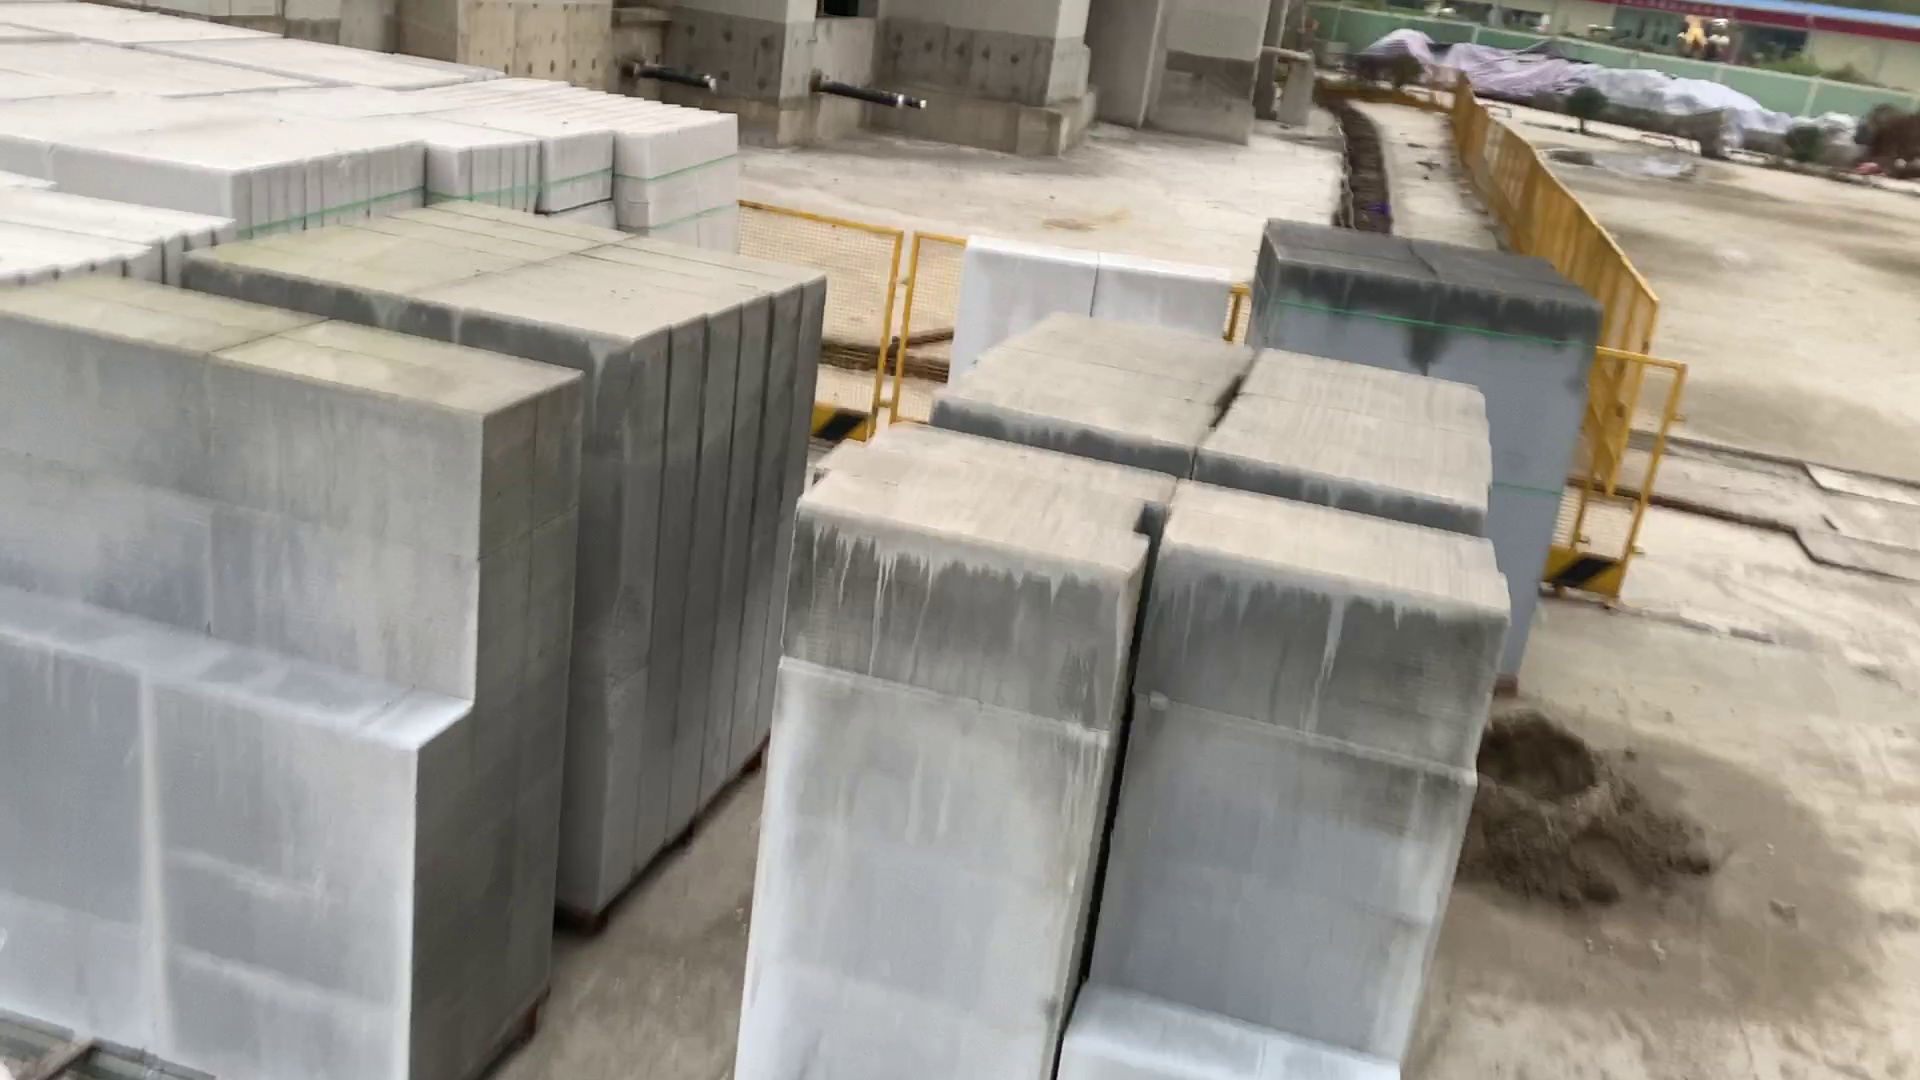brickwork: (808, 429, 1509, 1080), (3, 272, 564, 1080), (1269, 212, 1610, 695), (939, 287, 1503, 520), (220, 181, 833, 371), (7, 105, 411, 195), (435, 76, 742, 153), (4, 189, 229, 281), (4, 46, 301, 94), (175, 41, 456, 84), (7, 1, 274, 46)
